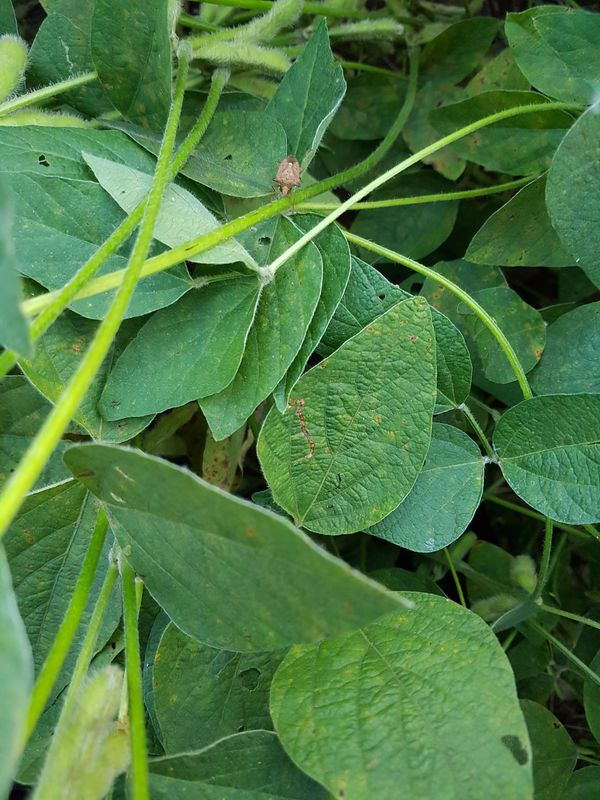Euschistus_heros_adulto: (266, 151, 308, 200)
